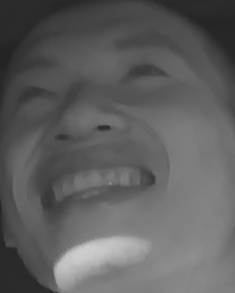eye: (120, 54, 172, 89), (13, 82, 57, 109)
mouth: (40, 148, 159, 215)
